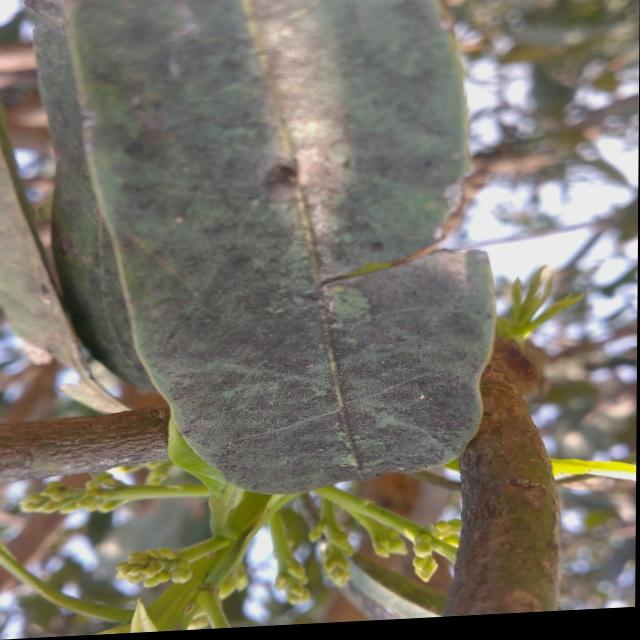black die: (2, 21, 474, 568)
